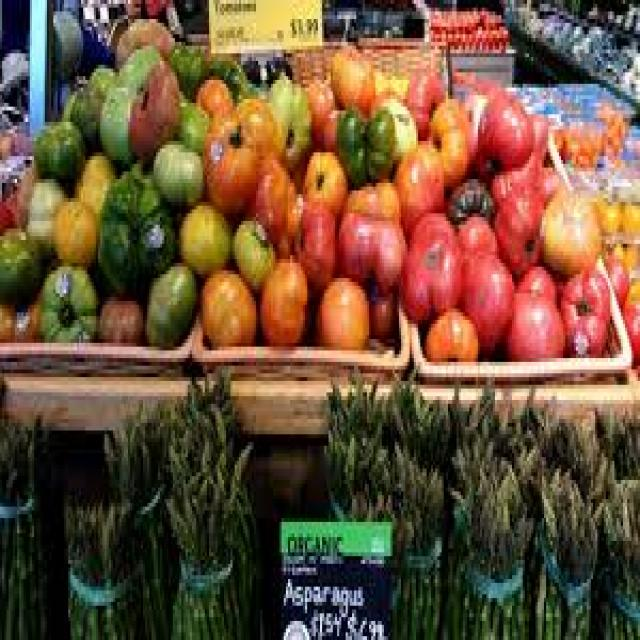organic waste: (162, 404, 254, 636), (100, 392, 179, 636), (448, 434, 527, 636), (376, 442, 440, 636), (532, 461, 598, 636), (62, 492, 141, 636), (96, 160, 177, 290), (0, 408, 41, 636), (335, 210, 403, 335), (591, 457, 638, 636), (518, 396, 596, 499), (322, 423, 391, 522), (476, 92, 538, 198), (448, 381, 525, 465), (273, 194, 335, 294), (399, 206, 456, 312), (128, 57, 181, 168), (203, 110, 258, 214), (540, 179, 599, 271), (459, 248, 514, 346), (379, 366, 444, 446), (248, 156, 298, 252), (394, 137, 442, 236), (60, 61, 113, 149), (175, 362, 235, 438), (264, 68, 310, 164), (38, 263, 96, 339), (314, 266, 369, 346), (493, 179, 540, 271), (171, 38, 241, 99), (561, 263, 610, 350), (426, 95, 474, 183), (201, 267, 256, 343), (258, 259, 307, 343), (145, 259, 194, 343), (504, 286, 561, 354), (177, 198, 228, 271), (328, 38, 376, 114), (32, 118, 83, 187), (324, 370, 382, 430), (0, 225, 47, 297), (152, 137, 202, 202), (49, 194, 96, 263), (234, 92, 284, 156), (422, 301, 478, 358), (230, 213, 271, 290), (595, 408, 638, 480), (98, 84, 137, 160), (322, 103, 363, 175), (431, 8, 508, 46), (301, 144, 348, 206), (403, 65, 444, 133), (113, 15, 173, 61), (446, 175, 493, 229), (96, 286, 143, 339), (378, 95, 416, 160), (362, 103, 394, 175), (25, 175, 62, 236), (346, 175, 399, 217), (459, 210, 495, 266), (305, 72, 335, 138), (75, 152, 111, 206), (115, 46, 164, 84), (0, 164, 30, 225), (194, 72, 228, 122), (516, 259, 553, 301), (177, 99, 207, 149), (604, 106, 627, 164), (371, 290, 395, 335), (606, 251, 627, 301), (373, 69, 408, 99), (621, 294, 638, 351), (17, 293, 36, 339), (574, 130, 601, 160), (529, 110, 544, 160), (595, 198, 621, 225), (262, 57, 288, 84), (553, 126, 576, 156), (239, 53, 256, 84), (0, 297, 15, 332), (621, 202, 636, 225), (0, 126, 11, 152), (629, 271, 638, 297)
